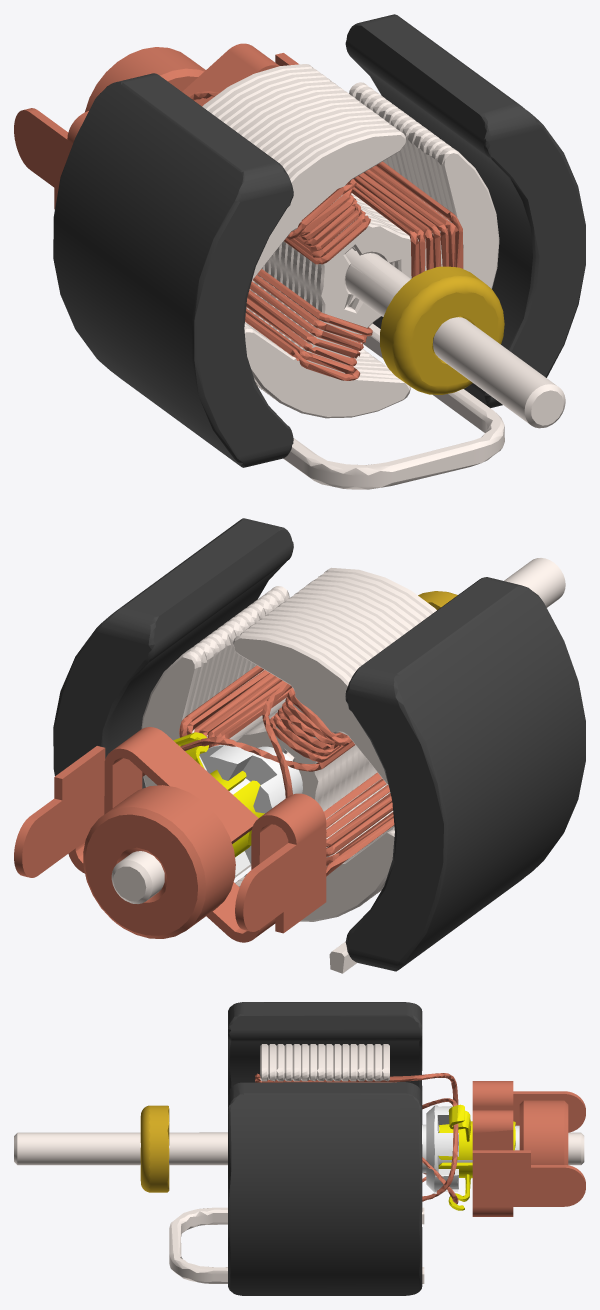
File: DCMotor.fbx
3 views of the same model, one above another, from view 1: azimuth 30°, elevation 25°; view 2: azimuth 150°, elevation 25°; view 3: azimuth 270°, elevation 25° (orthographic). The views are drawn at different scales.
Parts seen in each view (by area): view 1: Part4 magnet.001, Part 8 shaft.002, Part4 magnet, Part 7 brushing2 shaft fixture, Part 5 SPACER, Part 8 shaft, Part 8 shaft.007, Part 8 shaft.008, Part3 end contact.001, Part 6 brushing, Part3 end contact; view 2: Part4 magnet.001, Part 8 shaft.002, Part4 magnet, Part 6 brushing, Part3 end contact, Part3 end contact.001, Part 8 shaft.008, Part 8 shaft, Part 8 shaft.007, Part 8 shaft.006, Part 8 shaft.001, Part 8 shaft.005; view 3: Part4 magnet, Part 8 shaft.002, Part4 magnet.001, Part3 end contact, Part 6 brushing, Part3 end contact.001, Part 7 brushing2 shaft fixture, Part 5 SPACER, Part 8 shaft.006, Part 8 shaft.001, Part 8 shaft.008, Part 8 shaft.007 (+1 smaller).
Boxes of the visible parts, x1=… form: Part4 magnet.001: x1=53, y1=73, x2=293, y2=467; Part 8 shaft.002: x1=202, y1=64, x2=565, y2=428; Part4 magnet: x1=345, y1=14, x2=585, y2=408; Part 7 brushing2 shaft fixture: x1=380, y1=266, x2=504, y2=394; Part 5 SPACER: x1=283, y1=323, x2=504, y2=489; Part 8 shaft: x1=245, y1=269, x2=372, y2=380; Part 8 shaft.007: x1=346, y1=161, x2=463, y2=278; Part 8 shaft.008: x1=187, y1=91, x2=370, y2=264; Part3 end contact.001: x1=14, y1=108, x2=88, y2=209; Part 6 brushing: x1=84, y1=47, x2=205, y2=112; Part3 end contact: x1=182, y1=43, x2=298, y2=106; Part4 magnet.001: x1=345, y1=577, x2=585, y2=971; Part 8 shaft.002: x1=111, y1=558, x2=565, y2=921; Part4 magnet: x1=53, y1=518, x2=293, y2=788; Part 6 brushing: x1=83, y1=785, x2=235, y2=938; Part3 end contact: x1=14, y1=727, x2=258, y2=877; Part3 end contact.001: x1=206, y1=793, x2=326, y2=942; Part 8 shaft.008: x1=182, y1=682, x2=355, y2=797; Part 8 shaft: x1=324, y1=772, x2=394, y2=876; Part 8 shaft.007: x1=142, y1=665, x2=292, y2=776; Part 8 shaft.006: x1=199, y1=744, x2=302, y2=875; Part 8 shaft.001: x1=173, y1=732, x2=246, y2=790; Part 8 shaft.005: x1=232, y1=780, x2=264, y2=857; Part4 magnet: x1=228, y1=1082, x2=422, y2=1295; Part 8 shaft.002: x1=14, y1=1044, x2=584, y2=1165; Part4 magnet.001: x1=228, y1=1002, x2=422, y2=1094; Part3 end contact: x1=472, y1=1110, x2=585, y2=1216; Part 6 brushing: x1=519, y1=1100, x2=568, y2=1165; Part3 end contact.001: x1=472, y1=1081, x2=585, y2=1132; Part 7 brushing2 shaft fixture: x1=140, y1=1105, x2=169, y2=1192; Part 5 SPACER: x1=169, y1=1207, x2=424, y2=1283; Part 8 shaft.006: x1=422, y1=1105, x2=519, y2=1192; Part 8 shaft.001: x1=438, y1=1104, x2=515, y2=1159; Part 8 shaft.008: x1=255, y1=1073, x2=458, y2=1125; Part 8 shaft.007: x1=422, y1=1124, x2=458, y2=1203.
Size of the model in its own units: 0.7548 by 0.5515 by 1.39.
